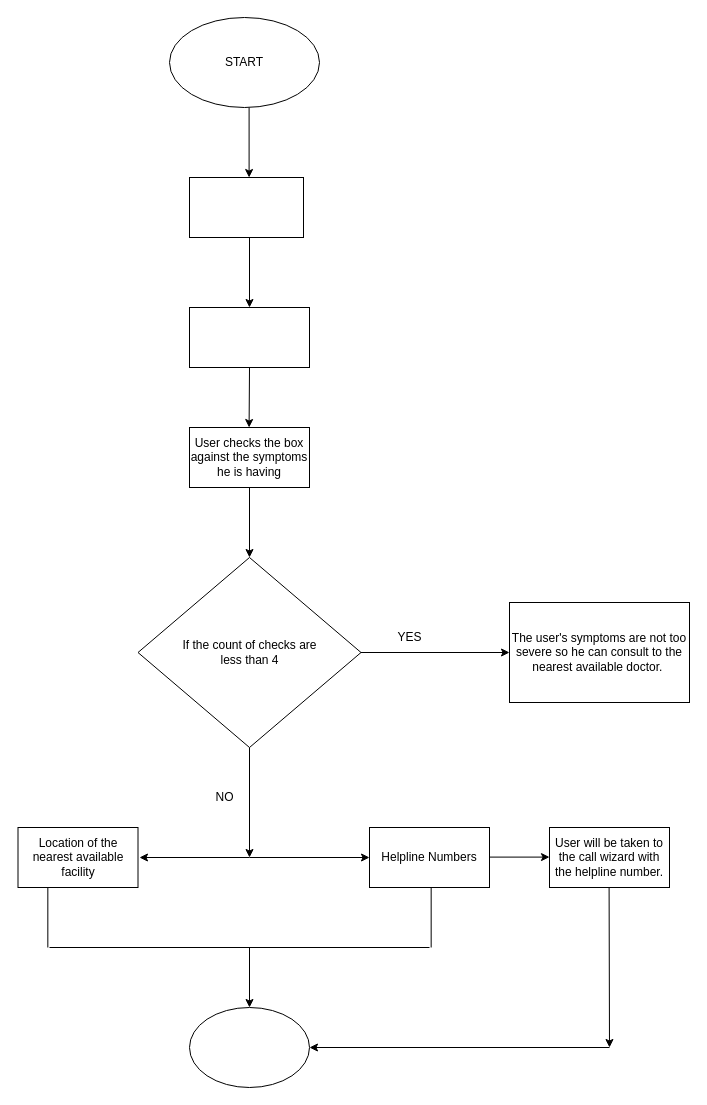
This 707x1105 diagram has some shape labels left out. Each missing label, with the centre of its shape:
Display the app name and next Button: the point at 246,207
Display the symptoms in the form of Check boxes: the point at 249,337
STOP: the point at 249,1047
